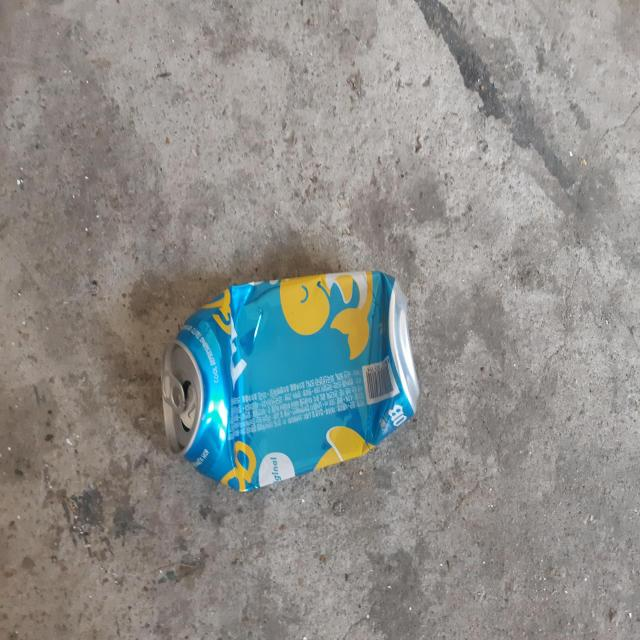can: (161, 270, 420, 492)
